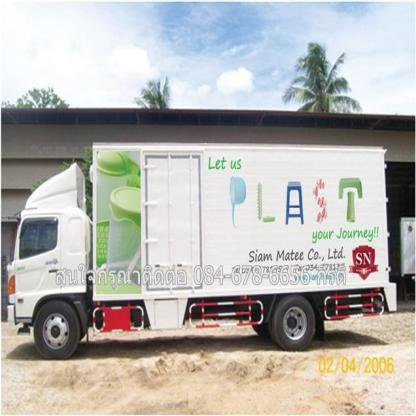Tire: (31, 296, 82, 362), (274, 294, 316, 350)
Wheel hub: (43, 315, 69, 349), (283, 309, 307, 340)
